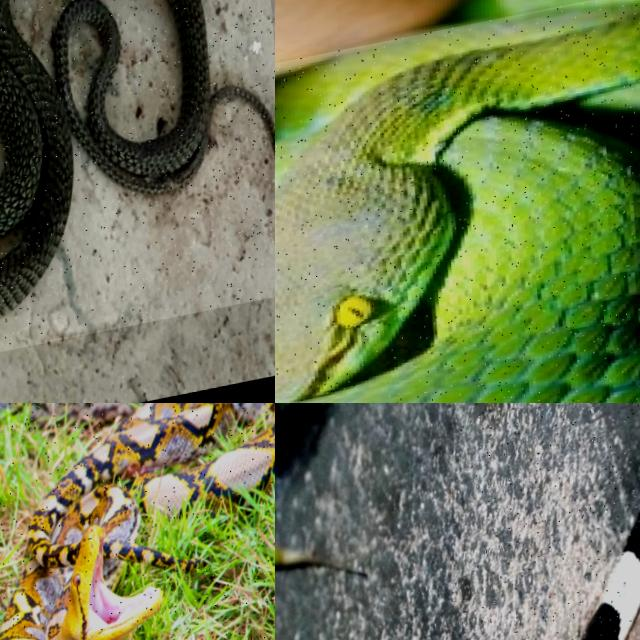Bungarus candidus: (582, 516, 639, 639)
Chrysopelea ornata: (57, 0, 274, 189)
Malayopython reticulatus: (0, 403, 274, 639)
Trimeresurus macrops: (275, 9, 639, 402)
